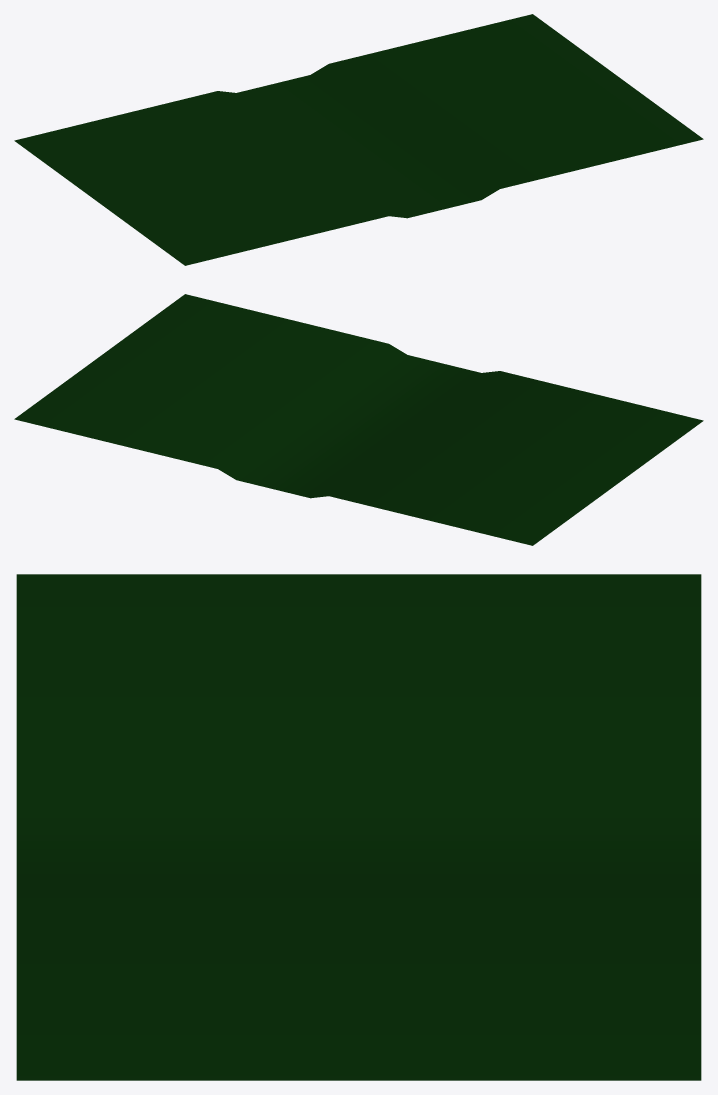
File: Ground.fbx
3 renders of one model, top to bottom at view 1: azimuth 30°, elevation 25°; view 2: azimuth 150°, elevation 25°; view 3: azimuth 270°, elevation 25°, orthographic. The views are drawn at different scales.
Visible parts, largest first — view 1: Ground; view 2: Ground; view 3: Ground.
Part boxes in pixels (bbox=[...]): Ground: bbox=[14, 14, 703, 265]; Ground: bbox=[14, 294, 703, 545]; Ground: bbox=[16, 574, 701, 1080].
Bounding box in the file's own units: 2800 × 34 × 1600.
